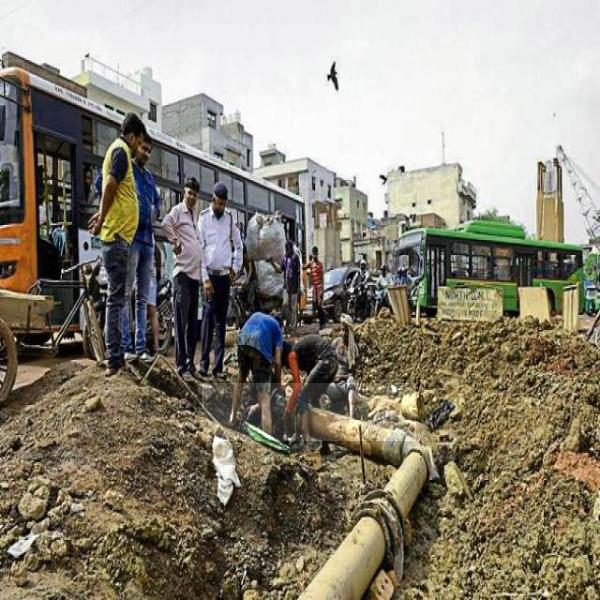crack: (202, 383, 416, 441)
